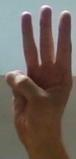W: (5, 2, 72, 145)
